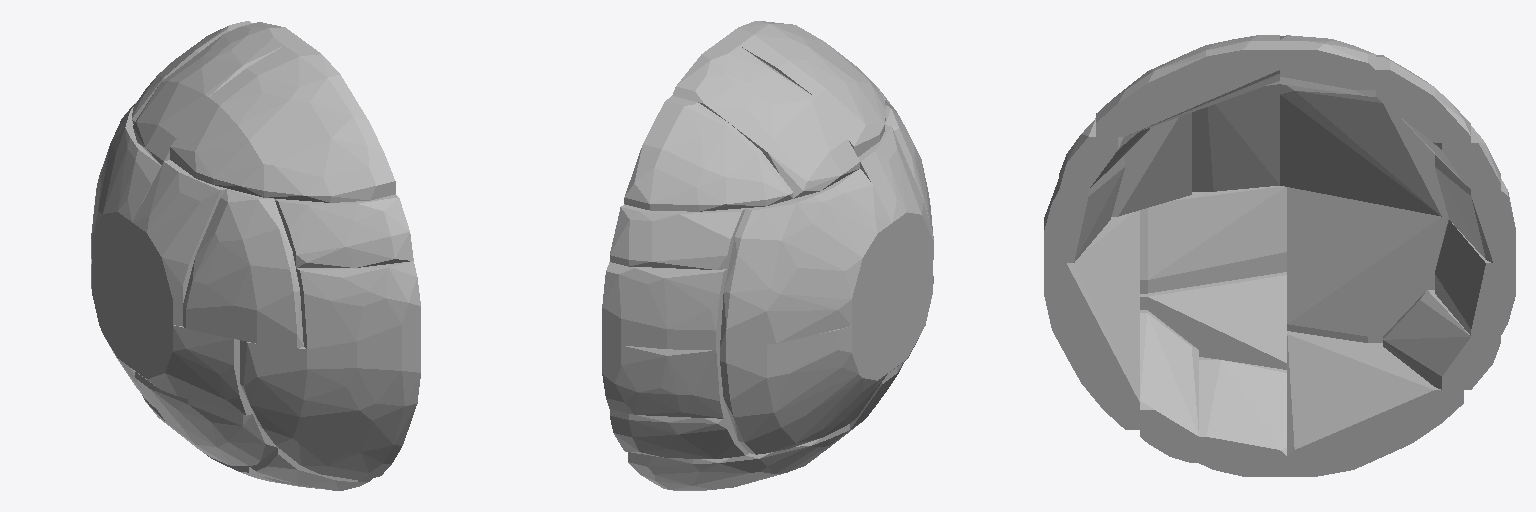
robot.urdf — root:
<robot name="root">
  <link name="link_68582543c4c6d0bccfdfe3f21f42a111_convex_piece_0">
    <inertial>
      <origin rpy="0 0 0" xyz="0 0 0"/>
      <mass value="-5.38E-08"/>
      <inertia ixx="-1.99E-11" ixy="3.53E-12" ixz="1.66E-12" iyy="3.43E-11" iyz="-6.40E-12" izz="2.19E-11"/>
    </inertial>
    <visual>
      <origin rpy="0 0 0" xyz="0 0 0"/>
      <geometry>
        <mesh filename="68582543c4c6d0bccfdfe3f21f42a111_convex_piece_0.obj" scale="1.0000E+00"/>
      </geometry>
      <material name="">
        <color rgba="7.50E-01 7.50E-01 7.50E-01 1"/>
      </material>
    </visual>
    <collision>
      <origin rpy="0 0 0" xyz="0 0 0"/>
      <geometry>
        <mesh filename="68582543c4c6d0bccfdfe3f21f42a111_convex_piece_0.obj" scale="1.0000E+00"/>
      </geometry>
    </collision>
  </link>
  <link name="link_68582543c4c6d0bccfdfe3f21f42a111_convex_piece_1">
    <inertial>
      <origin rpy="0 0 0" xyz="0 0 0"/>
      <mass value="-5.05E-08"/>
      <inertia ixx="-1.88E-11" ixy="-1.65E-12" ixz="3.33E-12" iyy="2.06E-11" iyz="6.33E-12" izz="3.20E-11"/>
    </inertial>
    <visual>
      <origin rpy="0 0 0" xyz="0 0 0"/>
      <geometry>
        <mesh filename="68582543c4c6d0bccfdfe3f21f42a111_convex_piece_1.obj" scale="1.0000E+00"/>
      </geometry>
      <material name="">
        <color rgba="7.50E-01 7.50E-01 7.50E-01 1"/>
      </material>
    </visual>
    <collision>
      <origin rpy="0 0 0" xyz="0 0 0"/>
      <geometry>
        <mesh filename="68582543c4c6d0bccfdfe3f21f42a111_convex_piece_1.obj" scale="1.0000E+00"/>
      </geometry>
    </collision>
  </link>
  <joint name="link_68582543c4c6d0bccfdfe3f21f42a111_convex_piece_1_joint" type="fixed">
    <origin rpy="0 0 0" xyz="0 0 0"/>
    <parent link="link_68582543c4c6d0bccfdfe3f21f42a111_convex_piece_0"/>
    <child link="link_68582543c4c6d0bccfdfe3f21f42a111_convex_piece_1"/>
  </joint>
  <link name="link_68582543c4c6d0bccfdfe3f21f42a111_convex_piece_2">
    <inertial>
      <origin rpy="0 0 0" xyz="0 0 0"/>
      <mass value="-5.38E-08"/>
      <inertia ixx="-1.99E-11" ixy="1.66E-12" ixz="-3.54E-12" iyy="2.19E-11" iyz="6.40E-12" izz="3.43E-11"/>
    </inertial>
    <visual>
      <origin rpy="0 0 0" xyz="0 0 0"/>
      <geometry>
        <mesh filename="68582543c4c6d0bccfdfe3f21f42a111_convex_piece_2.obj" scale="1.0000E+00"/>
      </geometry>
      <material name="">
        <color rgba="7.50E-01 7.50E-01 7.50E-01 1"/>
      </material>
    </visual>
    <collision>
      <origin rpy="0 0 0" xyz="0 0 0"/>
      <geometry>
        <mesh filename="68582543c4c6d0bccfdfe3f21f42a111_convex_piece_2.obj" scale="1.0000E+00"/>
      </geometry>
    </collision>
  </link>
  <joint name="link_68582543c4c6d0bccfdfe3f21f42a111_convex_piece_2_joint" type="fixed">
    <origin rpy="0 0 0" xyz="0 0 0"/>
    <parent link="link_68582543c4c6d0bccfdfe3f21f42a111_convex_piece_1"/>
    <child link="link_68582543c4c6d0bccfdfe3f21f42a111_convex_piece_2"/>
  </joint>
  <link name="link_68582543c4c6d0bccfdfe3f21f42a111_convex_piece_3">
    <inertial>
      <origin rpy="0 0 0" xyz="0 0 0"/>
      <mass value="-5.13E-08"/>
      <inertia ixx="-7.28E-12" ixy="1.92E-12" ixz="-1.58E-12" iyy="3.33E-11" iyz="2.56E-12" izz="3.15E-11"/>
    </inertial>
    <visual>
      <origin rpy="0 0 0" xyz="0 0 0"/>
      <geometry>
        <mesh filename="68582543c4c6d0bccfdfe3f21f42a111_convex_piece_3.obj" scale="1.0000E+00"/>
      </geometry>
      <material name="">
        <color rgba="7.50E-01 7.50E-01 7.50E-01 1"/>
      </material>
    </visual>
    <collision>
      <origin rpy="0 0 0" xyz="0 0 0"/>
      <geometry>
        <mesh filename="68582543c4c6d0bccfdfe3f21f42a111_convex_piece_3.obj" scale="1.0000E+00"/>
      </geometry>
    </collision>
  </link>
  <joint name="link_68582543c4c6d0bccfdfe3f21f42a111_convex_piece_3_joint" type="fixed">
    <origin rpy="0 0 0" xyz="0 0 0"/>
    <parent link="link_68582543c4c6d0bccfdfe3f21f42a111_convex_piece_2"/>
    <child link="link_68582543c4c6d0bccfdfe3f21f42a111_convex_piece_3"/>
  </joint>
  <link name="link_68582543c4c6d0bccfdfe3f21f42a111_convex_piece_4">
    <inertial>
      <origin rpy="0 0 0" xyz="0 0 0"/>
      <mass value="-5.14E-08"/>
      <inertia ixx="-6.95E-12" ixy="1.90E-12" ixz="1.55E-12" iyy="3.35E-11" iyz="-2.40E-12" izz="3.15E-11"/>
    </inertial>
    <visual>
      <origin rpy="0 0 0" xyz="0 0 0"/>
      <geometry>
        <mesh filename="68582543c4c6d0bccfdfe3f21f42a111_convex_piece_4.obj" scale="1.0000E+00"/>
      </geometry>
      <material name="">
        <color rgba="7.50E-01 7.50E-01 7.50E-01 1"/>
      </material>
    </visual>
    <collision>
      <origin rpy="0 0 0" xyz="0 0 0"/>
      <geometry>
        <mesh filename="68582543c4c6d0bccfdfe3f21f42a111_convex_piece_4.obj" scale="1.0000E+00"/>
      </geometry>
    </collision>
  </link>
  <joint name="link_68582543c4c6d0bccfdfe3f21f42a111_convex_piece_4_joint" type="fixed">
    <origin rpy="0 0 0" xyz="0 0 0"/>
    <parent link="link_68582543c4c6d0bccfdfe3f21f42a111_convex_piece_3"/>
    <child link="link_68582543c4c6d0bccfdfe3f21f42a111_convex_piece_4"/>
  </joint>
  <link name="link_68582543c4c6d0bccfdfe3f21f42a111_convex_piece_5">
    <inertial>
      <origin rpy="0 0 0" xyz="0 0 0"/>
      <mass value="-3.42E-08"/>
      <inertia ixx="-1.19E-11" ixy="-3.87E-13" ixz="-1.69E-12" iyy="1.35E-11" iyz="-2.70E-12" izz="2.35E-11"/>
    </inertial>
    <visual>
      <origin rpy="0 0 0" xyz="0 0 0"/>
      <geometry>
        <mesh filename="68582543c4c6d0bccfdfe3f21f42a111_convex_piece_5.obj" scale="1.0000E+00"/>
      </geometry>
      <material name="">
        <color rgba="7.50E-01 7.50E-01 7.50E-01 1"/>
      </material>
    </visual>
    <collision>
      <origin rpy="0 0 0" xyz="0 0 0"/>
      <geometry>
        <mesh filename="68582543c4c6d0bccfdfe3f21f42a111_convex_piece_5.obj" scale="1.0000E+00"/>
      </geometry>
    </collision>
  </link>
  <joint name="link_68582543c4c6d0bccfdfe3f21f42a111_convex_piece_5_joint" type="fixed">
    <origin rpy="0 0 0" xyz="0 0 0"/>
    <parent link="link_68582543c4c6d0bccfdfe3f21f42a111_convex_piece_4"/>
    <child link="link_68582543c4c6d0bccfdfe3f21f42a111_convex_piece_5"/>
  </joint>
  <link name="link_68582543c4c6d0bccfdfe3f21f42a111_convex_piece_6">
    <inertial>
      <origin rpy="0 0 0" xyz="0 0 0"/>
      <mass value="-1.90E-08"/>
      <inertia ixx="-7.89E-12" ixy="-1.20E-12" ixz="-1.47E-12" iyy="8.59E-12" iyz="-3.75E-12" izz="1.02E-11"/>
    </inertial>
    <visual>
      <origin rpy="0 0 0" xyz="0 0 0"/>
      <geometry>
        <mesh filename="68582543c4c6d0bccfdfe3f21f42a111_convex_piece_6.obj" scale="1.0000E+00"/>
      </geometry>
      <material name="">
        <color rgba="7.50E-01 7.50E-01 7.50E-01 1"/>
      </material>
    </visual>
    <collision>
      <origin rpy="0 0 0" xyz="0 0 0"/>
      <geometry>
        <mesh filename="68582543c4c6d0bccfdfe3f21f42a111_convex_piece_6.obj" scale="1.0000E+00"/>
      </geometry>
    </collision>
  </link>
  <joint name="link_68582543c4c6d0bccfdfe3f21f42a111_convex_piece_6_joint" type="fixed">
    <origin rpy="0 0 0" xyz="0 0 0"/>
    <parent link="link_68582543c4c6d0bccfdfe3f21f42a111_convex_piece_5"/>
    <child link="link_68582543c4c6d0bccfdfe3f21f42a111_convex_piece_6"/>
  </joint>
  <link name="link_68582543c4c6d0bccfdfe3f21f42a111_convex_piece_7">
    <inertial>
      <origin rpy="0 0 0" xyz="0 0 0"/>
      <mass value="-2.44E-08"/>
      <inertia ixx="-4.91E-12" ixy="-4.77E-13" ixz="-1.14E-12" iyy="1.36E-11" iyz="-1.59E-12" izz="1.64E-11"/>
    </inertial>
    <visual>
      <origin rpy="0 0 0" xyz="0 0 0"/>
      <geometry>
        <mesh filename="68582543c4c6d0bccfdfe3f21f42a111_convex_piece_7.obj" scale="1.0000E+00"/>
      </geometry>
      <material name="">
        <color rgba="7.50E-01 7.50E-01 7.50E-01 1"/>
      </material>
    </visual>
    <collision>
      <origin rpy="0 0 0" xyz="0 0 0"/>
      <geometry>
        <mesh filename="68582543c4c6d0bccfdfe3f21f42a111_convex_piece_7.obj" scale="1.0000E+00"/>
      </geometry>
    </collision>
  </link>
  <joint name="link_68582543c4c6d0bccfdfe3f21f42a111_convex_piece_7_joint" type="fixed">
    <origin rpy="0 0 0" xyz="0 0 0"/>
    <parent link="link_68582543c4c6d0bccfdfe3f21f42a111_convex_piece_6"/>
    <child link="link_68582543c4c6d0bccfdfe3f21f42a111_convex_piece_7"/>
  </joint>
  <link name="link_68582543c4c6d0bccfdfe3f21f42a111_convex_piece_8">
    <inertial>
      <origin rpy="0 0 0" xyz="0 0 0"/>
      <mass value="-2.65E-08"/>
      <inertia ixx="-2.28E-12" ixy="-1.09E-12" ixz="-7.74E-13" iyy="1.75E-11" iyz="-7.90E-13" izz="1.65E-11"/>
    </inertial>
    <visual>
      <origin rpy="0 0 0" xyz="0 0 0"/>
      <geometry>
        <mesh filename="68582543c4c6d0bccfdfe3f21f42a111_convex_piece_8.obj" scale="1.0000E+00"/>
      </geometry>
      <material name="">
        <color rgba="7.50E-01 7.50E-01 7.50E-01 1"/>
      </material>
    </visual>
    <collision>
      <origin rpy="0 0 0" xyz="0 0 0"/>
      <geometry>
        <mesh filename="68582543c4c6d0bccfdfe3f21f42a111_convex_piece_8.obj" scale="1.0000E+00"/>
      </geometry>
    </collision>
  </link>
  <joint name="link_68582543c4c6d0bccfdfe3f21f42a111_convex_piece_8_joint" type="fixed">
    <origin rpy="0 0 0" xyz="0 0 0"/>
    <parent link="link_68582543c4c6d0bccfdfe3f21f42a111_convex_piece_7"/>
    <child link="link_68582543c4c6d0bccfdfe3f21f42a111_convex_piece_8"/>
  </joint>
  <link name="link_68582543c4c6d0bccfdfe3f21f42a111_convex_piece_9">
    <inertial>
      <origin rpy="0 0 0" xyz="0 0 0"/>
      <mass value="-1.65E-08"/>
      <inertia ixx="-6.47E-12" ixy="7.34E-13" ixz="1.18E-12" iyy="7.19E-12" iyz="-2.89E-12" izz="9.72E-12"/>
    </inertial>
    <visual>
      <origin rpy="0 0 0" xyz="0 0 0"/>
      <geometry>
        <mesh filename="68582543c4c6d0bccfdfe3f21f42a111_convex_piece_9.obj" scale="1.0000E+00"/>
      </geometry>
      <material name="">
        <color rgba="7.50E-01 7.50E-01 7.50E-01 1"/>
      </material>
    </visual>
    <collision>
      <origin rpy="0 0 0" xyz="0 0 0"/>
      <geometry>
        <mesh filename="68582543c4c6d0bccfdfe3f21f42a111_convex_piece_9.obj" scale="1.0000E+00"/>
      </geometry>
    </collision>
  </link>
  <joint name="link_68582543c4c6d0bccfdfe3f21f42a111_convex_piece_9_joint" type="fixed">
    <origin rpy="0 0 0" xyz="0 0 0"/>
    <parent link="link_68582543c4c6d0bccfdfe3f21f42a111_convex_piece_8"/>
    <child link="link_68582543c4c6d0bccfdfe3f21f42a111_convex_piece_9"/>
  </joint>
  <link name="link_68582543c4c6d0bccfdfe3f21f42a111_convex_piece_10">
    <inertial>
      <origin rpy="0 0 0" xyz="0 0 0"/>
      <mass value="-2.04E-08"/>
      <inertia ixx="-8.02E-12" ixy="3.14E-13" ixz="1.73E-12" iyy="6.82E-12" iyz="-1.41E-12" izz="1.41E-11"/>
    </inertial>
    <visual>
      <origin rpy="0 0 0" xyz="0 0 0"/>
      <geometry>
        <mesh filename="68582543c4c6d0bccfdfe3f21f42a111_convex_piece_10.obj" scale="1.0000E+00"/>
      </geometry>
      <material name="">
        <color rgba="7.50E-01 7.50E-01 7.50E-01 1"/>
      </material>
    </visual>
    <collision>
      <origin rpy="0 0 0" xyz="0 0 0"/>
      <geometry>
        <mesh filename="68582543c4c6d0bccfdfe3f21f42a111_convex_piece_10.obj" scale="1.0000E+00"/>
      </geometry>
    </collision>
  </link>
  <joint name="link_68582543c4c6d0bccfdfe3f21f42a111_convex_piece_10_joint" type="fixed">
    <origin rpy="0 0 0" xyz="0 0 0"/>
    <parent link="link_68582543c4c6d0bccfdfe3f21f42a111_convex_piece_9"/>
    <child link="link_68582543c4c6d0bccfdfe3f21f42a111_convex_piece_10"/>
  </joint>
  <link name="link_68582543c4c6d0bccfdfe3f21f42a111_convex_piece_11">
    <inertial>
      <origin rpy="0 0 0" xyz="0 0 0"/>
      <mass value="-1.65E-08"/>
      <inertia ixx="-6.49E-12" ixy="-1.19E-12" ixz="7.34E-13" iyy="9.75E-12" iyz="2.90E-12" izz="7.21E-12"/>
    </inertial>
    <visual>
      <origin rpy="0 0 0" xyz="0 0 0"/>
      <geometry>
        <mesh filename="68582543c4c6d0bccfdfe3f21f42a111_convex_piece_11.obj" scale="1.0000E+00"/>
      </geometry>
      <material name="">
        <color rgba="7.50E-01 7.50E-01 7.50E-01 1"/>
      </material>
    </visual>
    <collision>
      <origin rpy="0 0 0" xyz="0 0 0"/>
      <geometry>
        <mesh filename="68582543c4c6d0bccfdfe3f21f42a111_convex_piece_11.obj" scale="1.0000E+00"/>
      </geometry>
    </collision>
  </link>
  <joint name="link_68582543c4c6d0bccfdfe3f21f42a111_convex_piece_11_joint" type="fixed">
    <origin rpy="0 0 0" xyz="0 0 0"/>
    <parent link="link_68582543c4c6d0bccfdfe3f21f42a111_convex_piece_10"/>
    <child link="link_68582543c4c6d0bccfdfe3f21f42a111_convex_piece_11"/>
  </joint>
  <link name="link_68582543c4c6d0bccfdfe3f21f42a111_convex_piece_12">
    <inertial>
      <origin rpy="0 0 0" xyz="0 0 0"/>
      <mass value="-1.88E-08"/>
      <inertia ixx="-7.38E-12" ixy="-1.60E-12" ixz="3.15E-13" iyy="1.29E-11" iyz="1.42E-12" izz="6.30E-12"/>
    </inertial>
    <visual>
      <origin rpy="0 0 0" xyz="0 0 0"/>
      <geometry>
        <mesh filename="68582543c4c6d0bccfdfe3f21f42a111_convex_piece_12.obj" scale="1.0000E+00"/>
      </geometry>
      <material name="">
        <color rgba="7.50E-01 7.50E-01 7.50E-01 1"/>
      </material>
    </visual>
    <collision>
      <origin rpy="0 0 0" xyz="0 0 0"/>
      <geometry>
        <mesh filename="68582543c4c6d0bccfdfe3f21f42a111_convex_piece_12.obj" scale="1.0000E+00"/>
      </geometry>
    </collision>
  </link>
  <joint name="link_68582543c4c6d0bccfdfe3f21f42a111_convex_piece_12_joint" type="fixed">
    <origin rpy="0 0 0" xyz="0 0 0"/>
    <parent link="link_68582543c4c6d0bccfdfe3f21f42a111_convex_piece_11"/>
    <child link="link_68582543c4c6d0bccfdfe3f21f42a111_convex_piece_12"/>
  </joint>
  <link name="link_68582543c4c6d0bccfdfe3f21f42a111_convex_piece_13">
    <inertial>
      <origin rpy="0 0 0" xyz="0 0 0"/>
      <mass value="-2.26E-08"/>
      <inertia ixx="-4.61E-12" ixy="-1.04E-12" ixz="4.69E-13" iyy="1.51E-11" iyz="1.58E-12" izz="1.26E-11"/>
    </inertial>
    <visual>
      <origin rpy="0 0 0" xyz="0 0 0"/>
      <geometry>
        <mesh filename="68582543c4c6d0bccfdfe3f21f42a111_convex_piece_13.obj" scale="1.0000E+00"/>
      </geometry>
      <material name="">
        <color rgba="7.50E-01 7.50E-01 7.50E-01 1"/>
      </material>
    </visual>
    <collision>
      <origin rpy="0 0 0" xyz="0 0 0"/>
      <geometry>
        <mesh filename="68582543c4c6d0bccfdfe3f21f42a111_convex_piece_13.obj" scale="1.0000E+00"/>
      </geometry>
    </collision>
  </link>
  <joint name="link_68582543c4c6d0bccfdfe3f21f42a111_convex_piece_13_joint" type="fixed">
    <origin rpy="0 0 0" xyz="0 0 0"/>
    <parent link="link_68582543c4c6d0bccfdfe3f21f42a111_convex_piece_12"/>
    <child link="link_68582543c4c6d0bccfdfe3f21f42a111_convex_piece_13"/>
  </joint>
  <link name="link_68582543c4c6d0bccfdfe3f21f42a111_convex_piece_14">
    <inertial>
      <origin rpy="0 0 0" xyz="0 0 0"/>
      <mass value="-2.48E-08"/>
      <inertia ixx="-2.21E-12" ixy="-7.20E-13" ixz="1.07E-12" iyy="1.55E-11" iyz="7.74E-13" izz="1.64E-11"/>
    </inertial>
    <visual>
      <origin rpy="0 0 0" xyz="0 0 0"/>
      <geometry>
        <mesh filename="68582543c4c6d0bccfdfe3f21f42a111_convex_piece_14.obj" scale="1.0000E+00"/>
      </geometry>
      <material name="">
        <color rgba="7.50E-01 7.50E-01 7.50E-01 1"/>
      </material>
    </visual>
    <collision>
      <origin rpy="0 0 0" xyz="0 0 0"/>
      <geometry>
        <mesh filename="68582543c4c6d0bccfdfe3f21f42a111_convex_piece_14.obj" scale="1.0000E+00"/>
      </geometry>
    </collision>
  </link>
  <joint name="link_68582543c4c6d0bccfdfe3f21f42a111_convex_piece_14_joint" type="fixed">
    <origin rpy="0 0 0" xyz="0 0 0"/>
    <parent link="link_68582543c4c6d0bccfdfe3f21f42a111_convex_piece_13"/>
    <child link="link_68582543c4c6d0bccfdfe3f21f42a111_convex_piece_14"/>
  </joint>
  <link name="link_68582543c4c6d0bccfdfe3f21f42a111_convex_piece_15">
    <inertial>
      <origin rpy="0 0 0" xyz="0 0 0"/>
      <mass value="-1.88E-08"/>
      <inertia ixx="-7.39E-12" ixy="1.60E-12" ixz="-3.21E-13" iyy="1.29E-11" iyz="1.42E-12" izz="6.30E-12"/>
    </inertial>
    <visual>
      <origin rpy="0 0 0" xyz="0 0 0"/>
      <geometry>
        <mesh filename="68582543c4c6d0bccfdfe3f21f42a111_convex_piece_15.obj" scale="1.0000E+00"/>
      </geometry>
      <material name="">
        <color rgba="7.50E-01 7.50E-01 7.50E-01 1"/>
      </material>
    </visual>
    <collision>
      <origin rpy="0 0 0" xyz="0 0 0"/>
      <geometry>
        <mesh filename="68582543c4c6d0bccfdfe3f21f42a111_convex_piece_15.obj" scale="1.0000E+00"/>
      </geometry>
    </collision>
  </link>
  <joint name="link_68582543c4c6d0bccfdfe3f21f42a111_convex_piece_15_joint" type="fixed">
    <origin rpy="0 0 0" xyz="0 0 0"/>
    <parent link="link_68582543c4c6d0bccfdfe3f21f42a111_convex_piece_14"/>
    <child link="link_68582543c4c6d0bccfdfe3f21f42a111_convex_piece_15"/>
  </joint>
  <link name="link_68582543c4c6d0bccfdfe3f21f42a111_convex_piece_16">
    <inertial>
      <origin rpy="0 0 0" xyz="0 0 0"/>
      <mass value="-1.65E-08"/>
      <inertia ixx="-6.47E-12" ixy="1.18E-12" ixz="-7.38E-13" iyy="9.72E-12" iyz="2.89E-12" izz="7.19E-12"/>
    </inertial>
    <visual>
      <origin rpy="0 0 0" xyz="0 0 0"/>
      <geometry>
        <mesh filename="68582543c4c6d0bccfdfe3f21f42a111_convex_piece_16.obj" scale="1.0000E+00"/>
      </geometry>
      <material name="">
        <color rgba="7.50E-01 7.50E-01 7.50E-01 1"/>
      </material>
    </visual>
    <collision>
      <origin rpy="0 0 0" xyz="0 0 0"/>
      <geometry>
        <mesh filename="68582543c4c6d0bccfdfe3f21f42a111_convex_piece_16.obj" scale="1.0000E+00"/>
      </geometry>
    </collision>
  </link>
  <joint name="link_68582543c4c6d0bccfdfe3f21f42a111_convex_piece_16_joint" type="fixed">
    <origin rpy="0 0 0" xyz="0 0 0"/>
    <parent link="link_68582543c4c6d0bccfdfe3f21f42a111_convex_piece_15"/>
    <child link="link_68582543c4c6d0bccfdfe3f21f42a111_convex_piece_16"/>
  </joint>
  <link name="link_68582543c4c6d0bccfdfe3f21f42a111_convex_piece_17">
    <inertial>
      <origin rpy="0 0 0" xyz="0 0 0"/>
      <mass value="-1.85E-08"/>
      <inertia ixx="-7.27E-12" ixy="-1.56E-12" ixz="-3.17E-13" iyy="1.27E-11" iyz="-1.40E-12" izz="6.18E-12"/>
    </inertial>
    <visual>
      <origin rpy="0 0 0" xyz="0 0 0"/>
      <geometry>
        <mesh filename="68582543c4c6d0bccfdfe3f21f42a111_convex_piece_17.obj" scale="1.0000E+00"/>
      </geometry>
      <material name="">
        <color rgba="7.50E-01 7.50E-01 7.50E-01 1"/>
      </material>
    </visual>
    <collision>
      <origin rpy="0 0 0" xyz="0 0 0"/>
      <geometry>
        <mesh filename="68582543c4c6d0bccfdfe3f21f42a111_convex_piece_17.obj" scale="1.0000E+00"/>
      </geometry>
    </collision>
  </link>
  <joint name="link_68582543c4c6d0bccfdfe3f21f42a111_convex_piece_17_joint" type="fixed">
    <origin rpy="0 0 0" xyz="0 0 0"/>
    <parent link="link_68582543c4c6d0bccfdfe3f21f42a111_convex_piece_16"/>
    <child link="link_68582543c4c6d0bccfdfe3f21f42a111_convex_piece_17"/>
  </joint>
  <link name="link_68582543c4c6d0bccfdfe3f21f42a111_convex_piece_18">
    <inertial>
      <origin rpy="0 0 0" xyz="0 0 0"/>
      <mass value="-1.42E-08"/>
      <inertia ixx="-5.55E-12" ixy="-1.04E-12" ixz="-6.22E-13" iyy="8.44E-12" iyz="-2.44E-12" izz="6.04E-12"/>
    </inertial>
    <visual>
      <origin rpy="0 0 0" xyz="0 0 0"/>
      <geometry>
        <mesh filename="68582543c4c6d0bccfdfe3f21f42a111_convex_piece_18.obj" scale="1.0000E+00"/>
      </geometry>
      <material name="">
        <color rgba="7.50E-01 7.50E-01 7.50E-01 1"/>
      </material>
    </visual>
    <collision>
      <origin rpy="0 0 0" xyz="0 0 0"/>
      <geometry>
        <mesh filename="68582543c4c6d0bccfdfe3f21f42a111_convex_piece_18.obj" scale="1.0000E+00"/>
      </geometry>
    </collision>
  </link>
  <joint name="link_68582543c4c6d0bccfdfe3f21f42a111_convex_piece_18_joint" type="fixed">
    <origin rpy="0 0 0" xyz="0 0 0"/>
    <parent link="link_68582543c4c6d0bccfdfe3f21f42a111_convex_piece_17"/>
    <child link="link_68582543c4c6d0bccfdfe3f21f42a111_convex_piece_18"/>
  </joint>
</robot>

--- Facts derived from the render (not from the file) ---
Views: 3 orthographic renders of the robot side by side, from view 1: azimuth 30°, elevation 25°; view 2: azimuth 150°, elevation 25°; view 3: azimuth 270°, elevation 25°.
Model root with 19 links and 18 joints (18 fixed), rooted at link_68582543c4c6d0bccfdfe3f21f42a111_convex_piece_0, posed all joints at 0.
Visible links, largest first — view 1: link_68582543c4c6d0bccfdfe3f21f42a111_convex_piece_2, link_68582543c4c6d0bccfdfe3f21f42a111_convex_piece_0, link_68582543c4c6d0bccfdfe3f21f42a111_convex_piece_13, link_68582543c4c6d0bccfdfe3f21f42a111_convex_piece_15, link_68582543c4c6d0bccfdfe3f21f42a111_convex_piece_14, link_68582543c4c6d0bccfdfe3f21f42a111_convex_piece_8, link_68582543c4c6d0bccfdfe3f21f42a111_convex_piece_16, link_68582543c4c6d0bccfdfe3f21f42a111_convex_piece_5, link_68582543c4c6d0bccfdfe3f21f42a111_convex_piece_4, link_68582543c4c6d0bccfdfe3f21f42a111_convex_piece_7, link_68582543c4c6d0bccfdfe3f21f42a111_convex_piece_3, link_68582543c4c6d0bccfdfe3f21f42a111_convex_piece_9 (+1 smaller); view 2: link_68582543c4c6d0bccfdfe3f21f42a111_convex_piece_4, link_68582543c4c6d0bccfdfe3f21f42a111_convex_piece_3, link_68582543c4c6d0bccfdfe3f21f42a111_convex_piece_5, link_68582543c4c6d0bccfdfe3f21f42a111_convex_piece_6, link_68582543c4c6d0bccfdfe3f21f42a111_convex_piece_17, link_68582543c4c6d0bccfdfe3f21f42a111_convex_piece_2, link_68582543c4c6d0bccfdfe3f21f42a111_convex_piece_12, link_68582543c4c6d0bccfdfe3f21f42a111_convex_piece_18, link_68582543c4c6d0bccfdfe3f21f42a111_convex_piece_14, link_68582543c4c6d0bccfdfe3f21f42a111_convex_piece_1, link_68582543c4c6d0bccfdfe3f21f42a111_convex_piece_11, link_68582543c4c6d0bccfdfe3f21f42a111_convex_piece_8 (+2 smaller); view 3: link_68582543c4c6d0bccfdfe3f21f42a111_convex_piece_3, link_68582543c4c6d0bccfdfe3f21f42a111_convex_piece_1, link_68582543c4c6d0bccfdfe3f21f42a111_convex_piece_4, link_68582543c4c6d0bccfdfe3f21f42a111_convex_piece_0, link_68582543c4c6d0bccfdfe3f21f42a111_convex_piece_8, link_68582543c4c6d0bccfdfe3f21f42a111_convex_piece_2, link_68582543c4c6d0bccfdfe3f21f42a111_convex_piece_10, link_68582543c4c6d0bccfdfe3f21f42a111_convex_piece_7, link_68582543c4c6d0bccfdfe3f21f42a111_convex_piece_14, link_68582543c4c6d0bccfdfe3f21f42a111_convex_piece_9, link_68582543c4c6d0bccfdfe3f21f42a111_convex_piece_11, link_68582543c4c6d0bccfdfe3f21f42a111_convex_piece_12 (+7 smaller).
Boxes of the visible links, x1=… form: link_68582543c4c6d0bccfdfe3f21f42a111_convex_piece_2: x1=170, y1=41, x2=395, y2=202; link_68582543c4c6d0bccfdfe3f21f42a111_convex_piece_0: x1=240, y1=340, x2=420, y2=480; link_68582543c4c6d0bccfdfe3f21f42a111_convex_piece_13: x1=183, y1=189, x2=303, y2=347; link_68582543c4c6d0bccfdfe3f21f42a111_convex_piece_15: x1=296, y1=261, x2=420, y2=348; link_68582543c4c6d0bccfdfe3f21f42a111_convex_piece_14: x1=132, y1=160, x2=226, y2=325; link_68582543c4c6d0bccfdfe3f21f42a111_convex_piece_8: x1=128, y1=293, x2=253, y2=415; link_68582543c4c6d0bccfdfe3f21f42a111_convex_piece_16: x1=275, y1=194, x2=413, y2=267; link_68582543c4c6d0bccfdfe3f21f42a111_convex_piece_5: x1=133, y1=22, x2=302, y2=165; link_68582543c4c6d0bccfdfe3f21f42a111_convex_piece_4: x1=91, y1=107, x2=160, y2=294; link_68582543c4c6d0bccfdfe3f21f42a111_convex_piece_7: x1=135, y1=372, x2=277, y2=465; link_68582543c4c6d0bccfdfe3f21f42a111_convex_piece_3: x1=91, y1=259, x2=155, y2=407; link_68582543c4c6d0bccfdfe3f21f42a111_convex_piece_9: x1=249, y1=448, x2=372, y2=490; link_68582543c4c6d0bccfdfe3f21f42a111_convex_piece_4: x1=720, y1=169, x2=891, y2=348; link_68582543c4c6d0bccfdfe3f21f42a111_convex_piece_3: x1=720, y1=299, x2=888, y2=454; link_68582543c4c6d0bccfdfe3f21f42a111_convex_piece_5: x1=672, y1=41, x2=859, y2=198; link_68582543c4c6d0bccfdfe3f21f42a111_convex_piece_6: x1=624, y1=96, x2=792, y2=211; link_68582543c4c6d0bccfdfe3f21f42a111_convex_piece_17: x1=602, y1=262, x2=727, y2=350; link_68582543c4c6d0bccfdfe3f21f42a111_convex_piece_2: x1=720, y1=21, x2=885, y2=156; link_68582543c4c6d0bccfdfe3f21f42a111_convex_piece_12: x1=602, y1=341, x2=728, y2=418; link_68582543c4c6d0bccfdfe3f21f42a111_convex_piece_18: x1=610, y1=204, x2=745, y2=269; link_68582543c4c6d0bccfdfe3f21f42a111_convex_piece_14: x1=858, y1=125, x2=932, y2=295; link_68582543c4c6d0bccfdfe3f21f42a111_convex_piece_1: x1=628, y1=424, x2=849, y2=490; link_68582543c4c6d0bccfdfe3f21f42a111_convex_piece_11: x1=610, y1=409, x2=748, y2=458; link_68582543c4c6d0bccfdfe3f21f42a111_convex_piece_8: x1=889, y1=267, x2=933, y2=371; link_68582543c4c6d0bccfdfe3f21f42a111_convex_piece_3: x1=1287, y1=187, x2=1448, y2=342; link_68582543c4c6d0bccfdfe3f21f42a111_convex_piece_1: x1=1287, y1=331, x2=1463, y2=476; link_68582543c4c6d0bccfdfe3f21f42a111_convex_piece_4: x1=1280, y1=84, x2=1447, y2=216; link_68582543c4c6d0bccfdfe3f21f42a111_convex_piece_0: x1=1044, y1=210, x2=1139, y2=429; link_68582543c4c6d0bccfdfe3f21f42a111_convex_piece_8: x1=1140, y1=186, x2=1286, y2=293; link_68582543c4c6d0bccfdfe3f21f42a111_convex_piece_2: x1=1096, y1=35, x2=1279, y2=136; link_68582543c4c6d0bccfdfe3f21f42a111_convex_piece_10: x1=1199, y1=357, x2=1286, y2=476; link_68582543c4c6d0bccfdfe3f21f42a111_convex_piece_7: x1=1140, y1=272, x2=1286, y2=369; link_68582543c4c6d0bccfdfe3f21f42a111_convex_piece_14: x1=1192, y1=81, x2=1279, y2=191; link_68582543c4c6d0bccfdfe3f21f42a111_convex_piece_9: x1=1140, y1=310, x2=1198, y2=462; link_68582543c4c6d0bccfdfe3f21f42a111_convex_piece_11: x1=1383, y1=290, x2=1500, y2=389; link_68582543c4c6d0bccfdfe3f21f42a111_convex_piece_12: x1=1435, y1=220, x2=1515, y2=336.
Size in the robot's own frame: 0.0193 by 0.0457 by 0.0457 metres.
19 mesh visuals loaded from 19 distinct referenced files (19 OBJ).